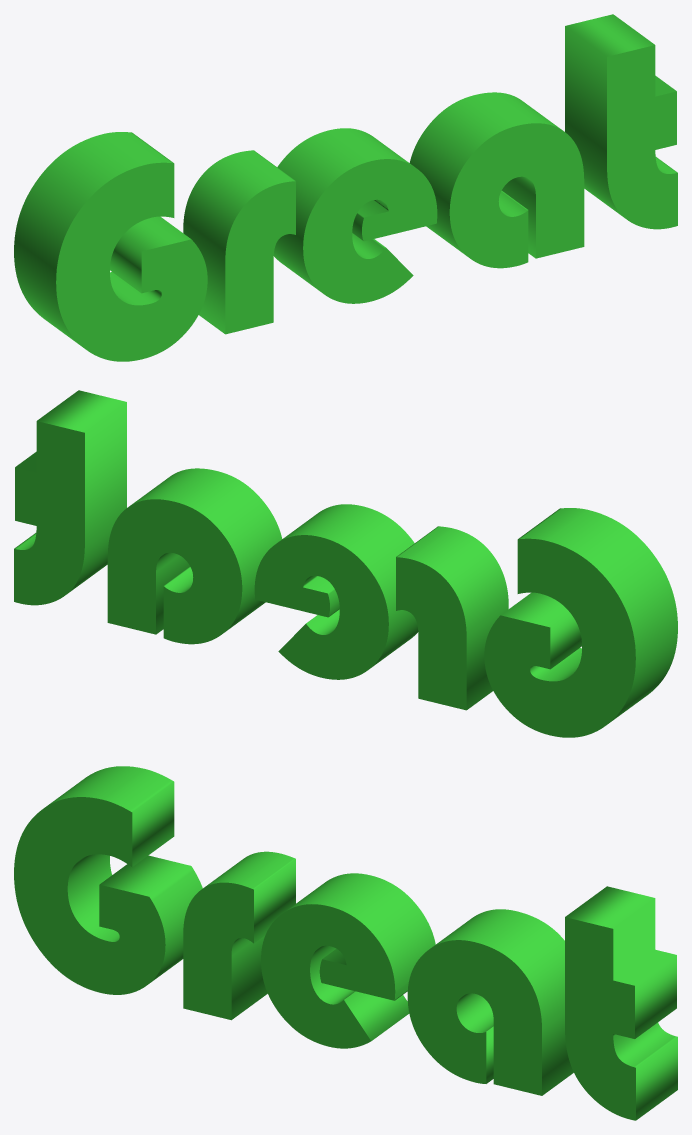
Rendered from Great.fbx.
The picture shows the model from 3 angles, top to bottom: view 1: azimuth 30°, elevation 25°; view 2: azimuth 150°, elevation 25°; view 3: azimuth 330°, elevation 25°; orthographic projection.
Visible parts, largest first — view 1: Miss; view 2: Miss; view 3: Miss.
Part boxes in pixels (x1,y1,x2,y2): Miss: [14, 14, 677, 361]; Miss: [14, 390, 677, 737]; Miss: [14, 766, 677, 1120].
Size of the model in its own units: 205 by 60.9 by 24.
